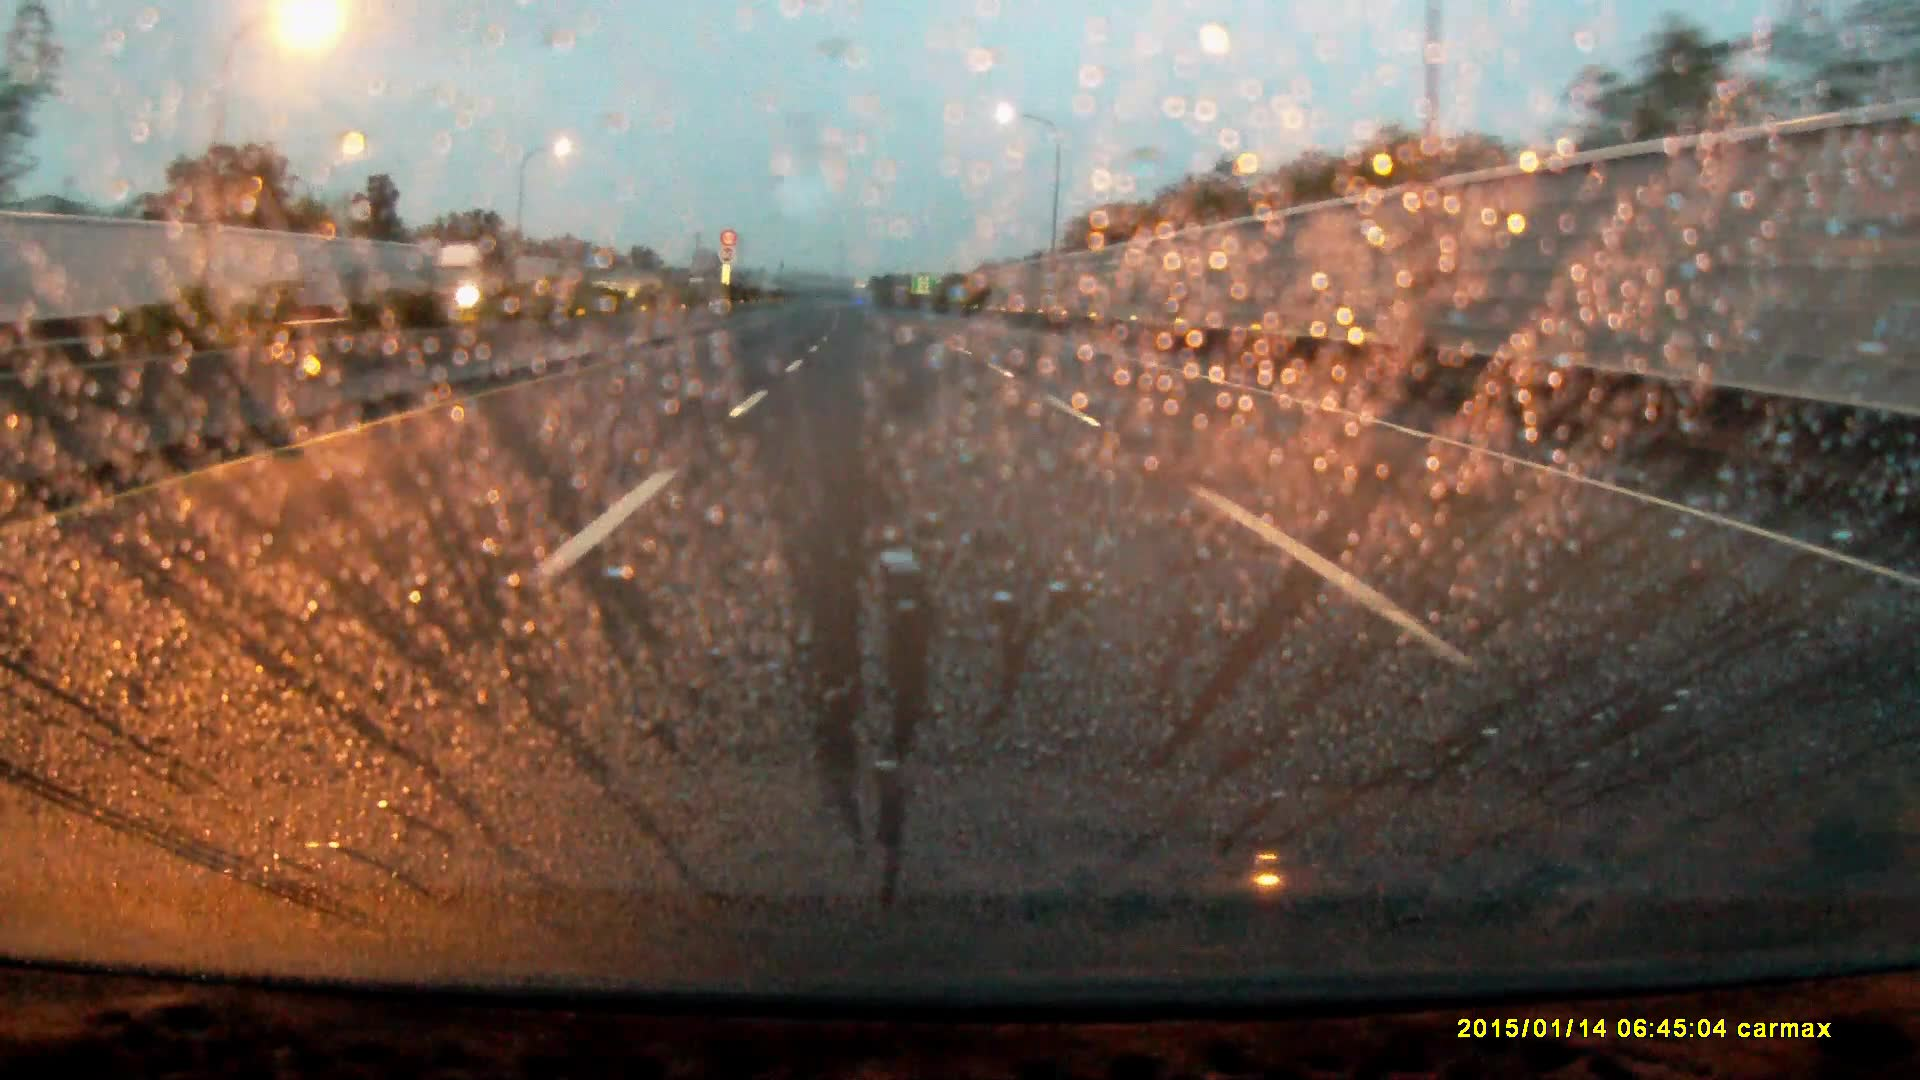vehicle: (426, 245, 524, 315)
